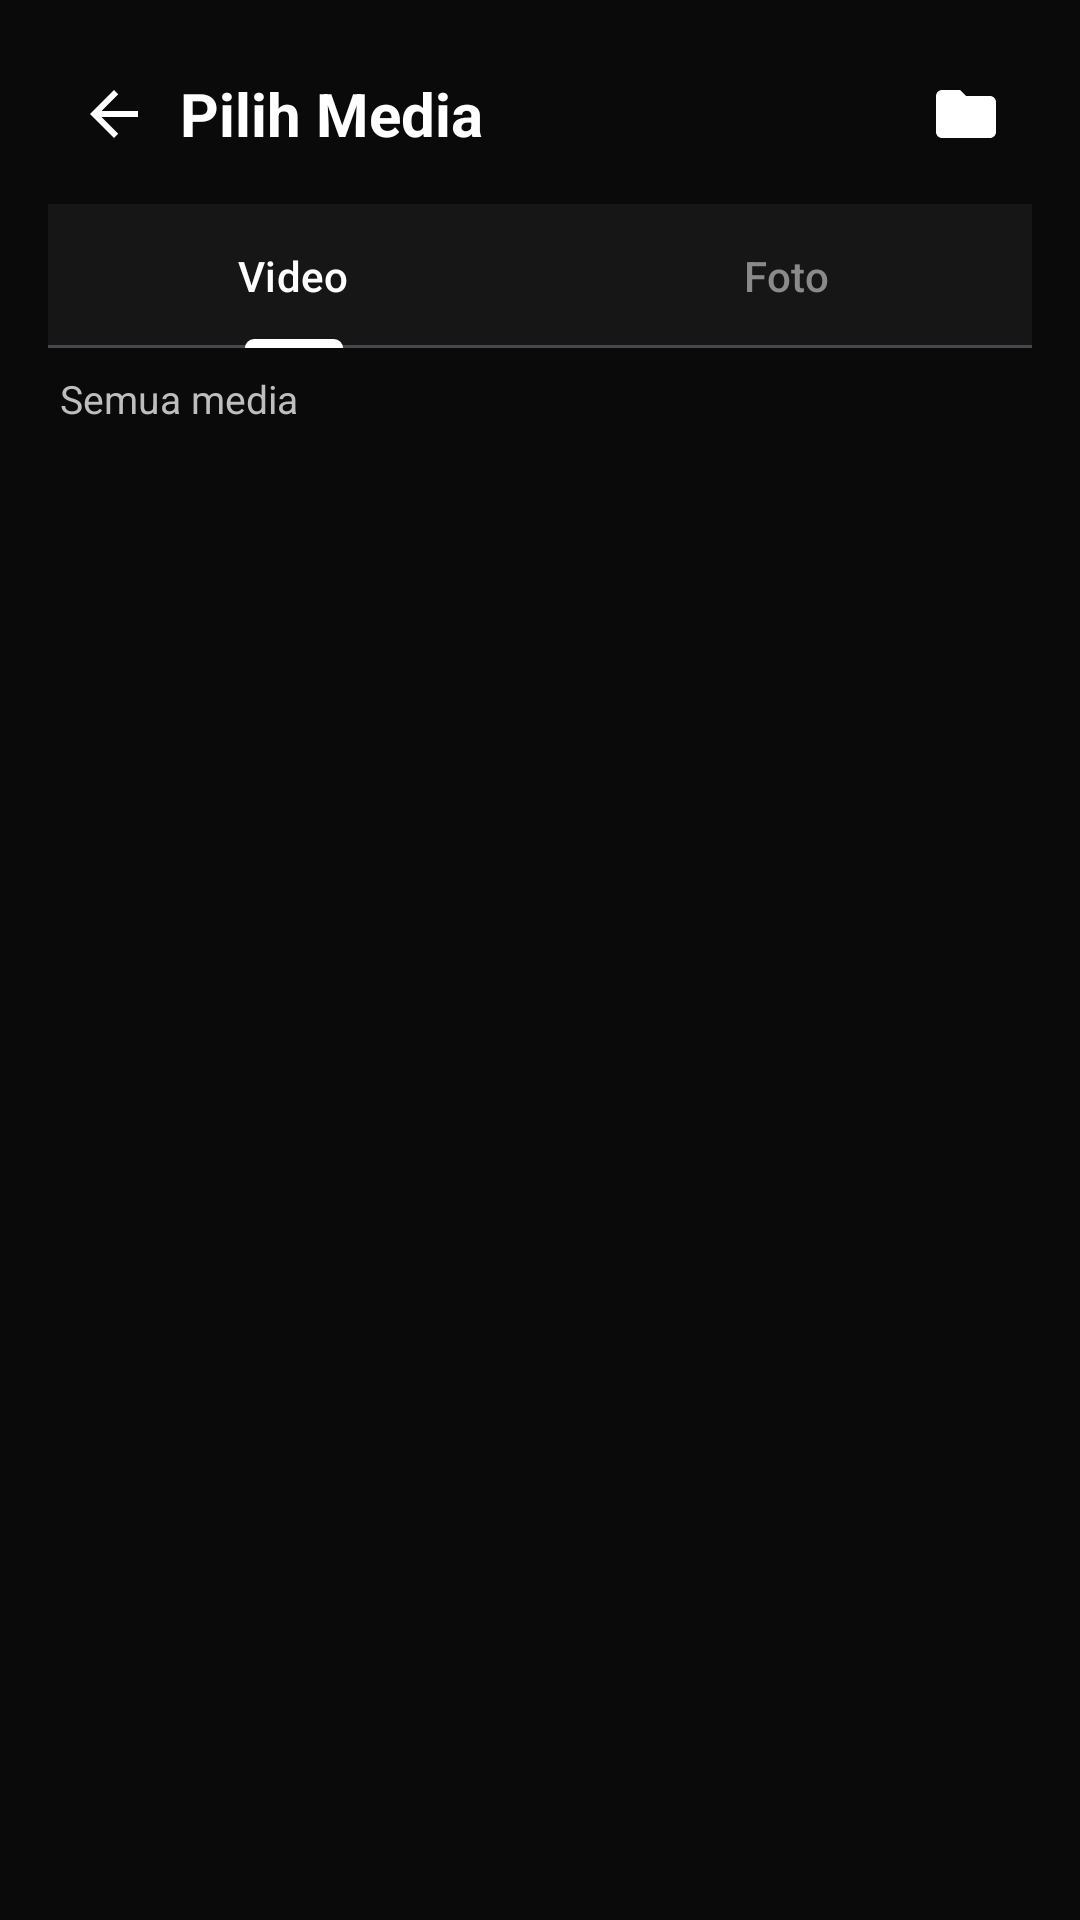

Named icons in this screenshot (1080*1920) and their bounding boxes, (x1, y1, x2, y2):
Back: (90, 90, 138, 138)
Folder: (936, 90, 996, 138)
